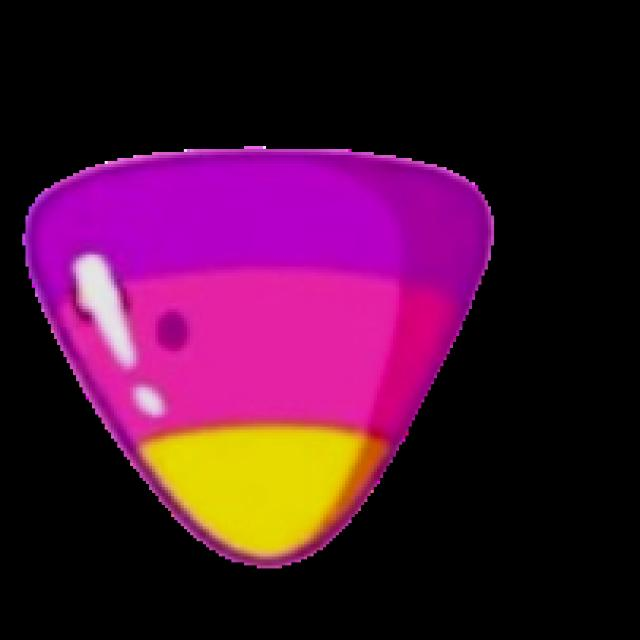jian: (19, 144, 497, 570)
